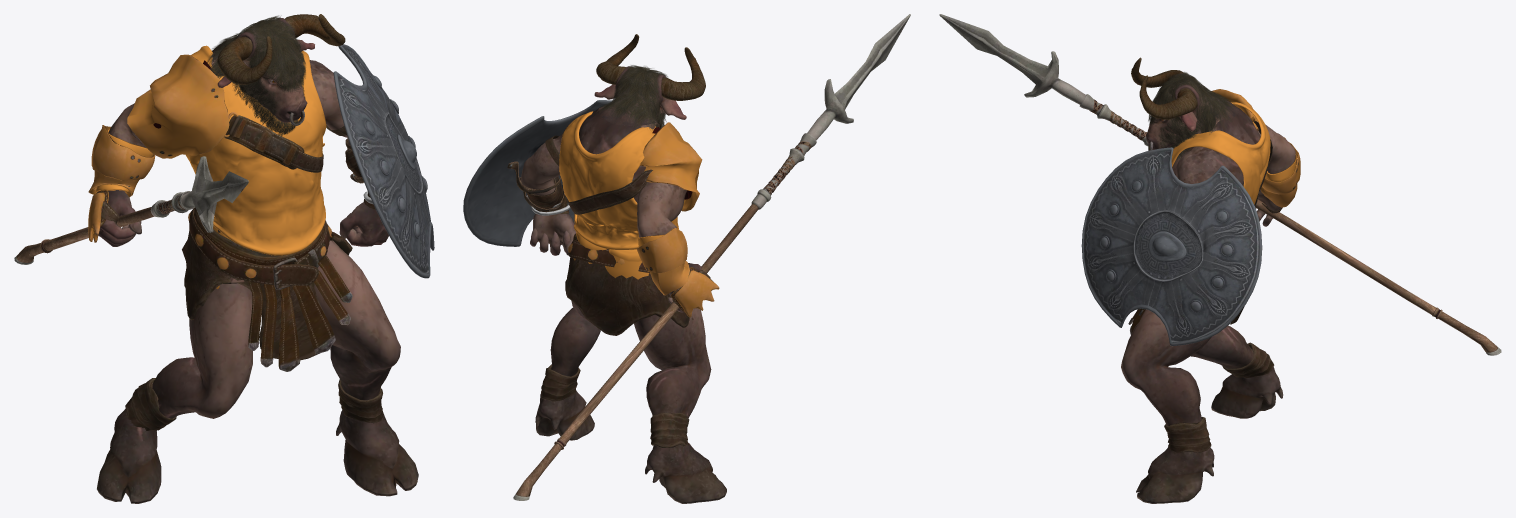
Rendered from bullguard.glb.
3 views of the same model, side by side, from view 1: azimuth 30°, elevation 25°; view 2: azimuth 150°, elevation 25°; view 3: azimuth 270°, elevation 25° (orthographic). The views are drawn at different scales.
Visible parts, largest first — view 1: BULL; view 2: BULL; view 3: BULL.
Part boxes in pixels (x1=…): BULL: x1=14, y1=14, x2=434, y2=503; BULL: x1=463, y1=14, x2=910, y2=503; BULL: x1=939, y1=14, x2=1501, y2=503.
Size of the model in its own units: 1.28 by 1.71 by 2.23.
10 materials, 10 textured.
